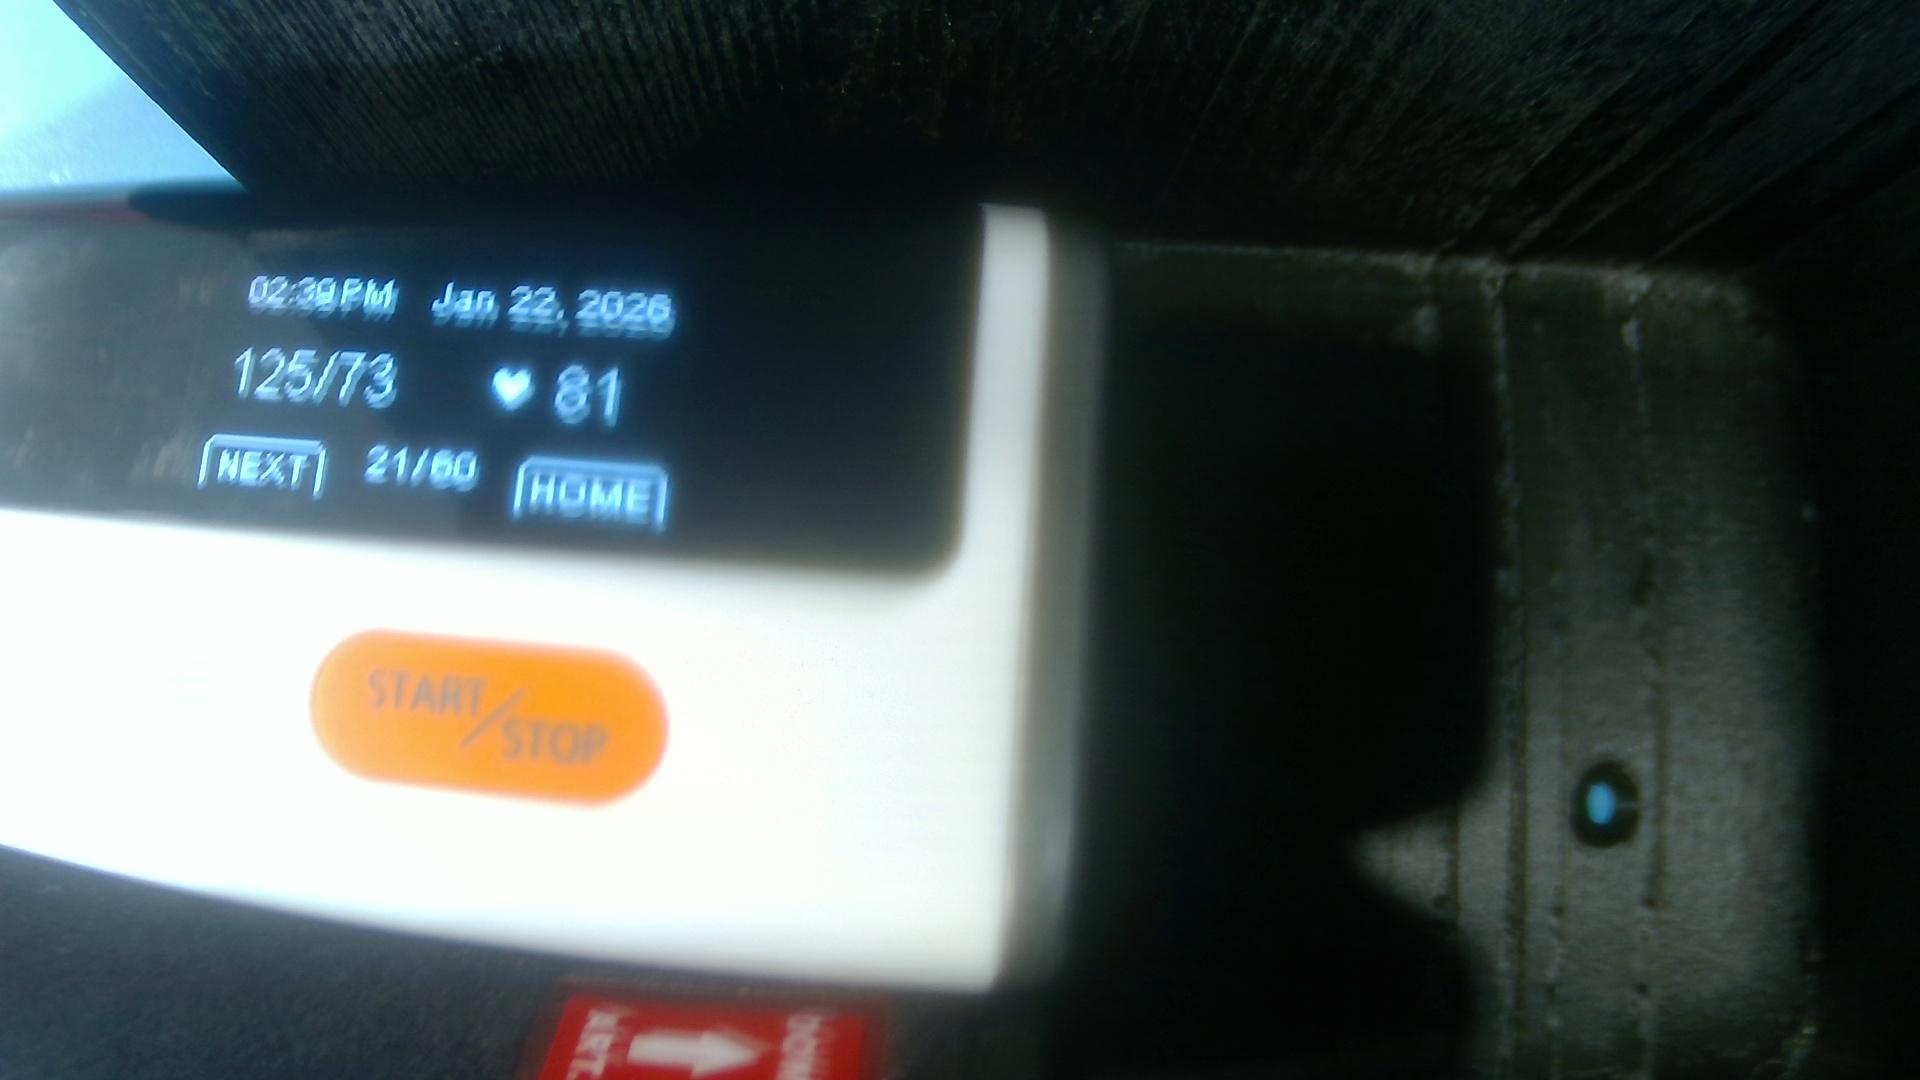DISPLAY: (11, 199, 973, 571)
